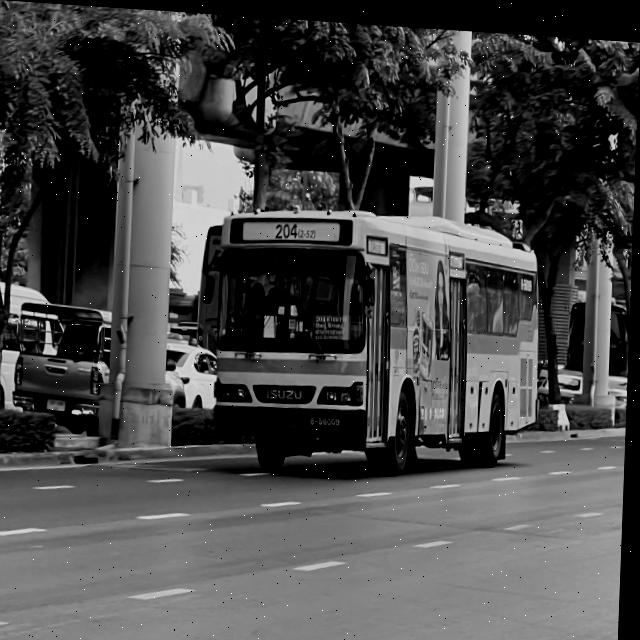BMTA-bus: (210, 191, 549, 472)
Bus Line Number: (273, 216, 320, 237)
Bus Side Number: (308, 407, 349, 425)
Destination Sign: (316, 309, 355, 336)
